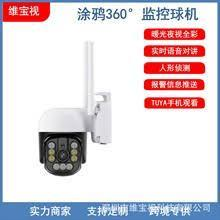maru: (38, 108, 88, 176)
